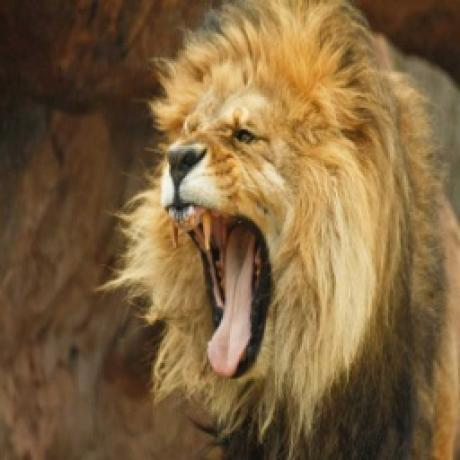Lion: (111, 0, 460, 460)
